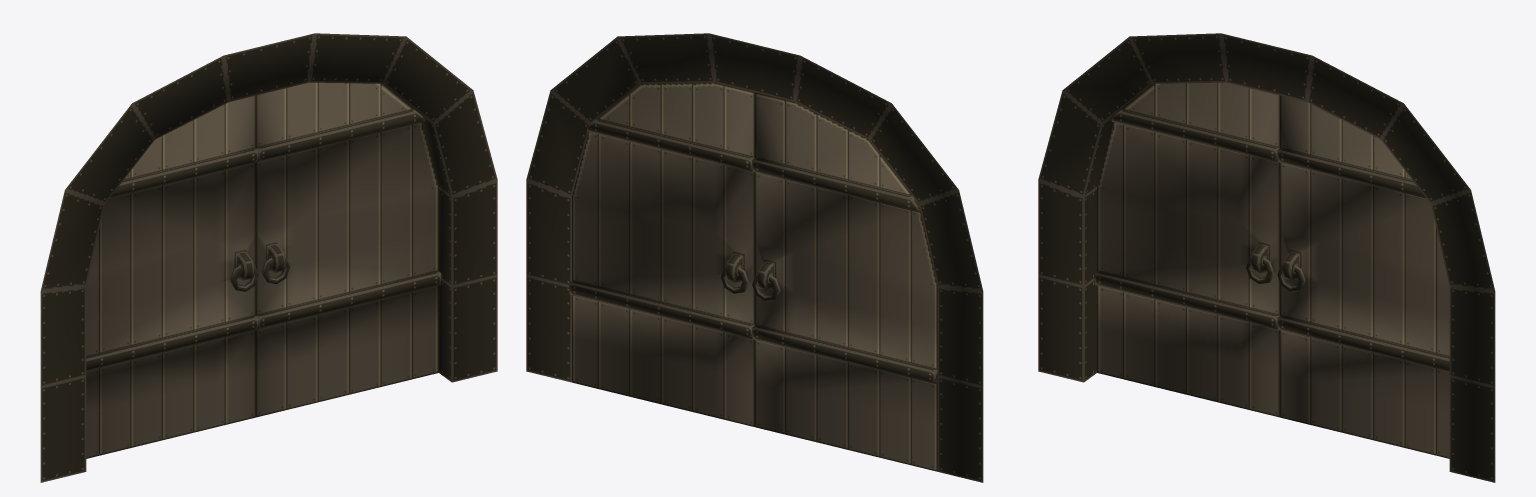
The model's file is BigDoorNormalWalls.fbx.
3 views of the same model, side by side, from view 1: azimuth 30°, elevation 25°; view 2: azimuth 150°, elevation 25°; view 3: azimuth 330°, elevation 25° (orthographic).
Parts seen in each view (by area): view 1: Door.003, Door.002, beam.001; view 2: Door.002, Door.003, beam.001; view 3: Door.002, Door.003, beam.001.
Part boxes in pixels (box(x1,y1,x2,y2)): Door.003: box(256, 82, 441, 417); Door.002: box(86, 95, 258, 458); beam.001: box(40, 33, 497, 482); Door.002: box(752, 92, 937, 471); Door.003: box(569, 82, 754, 426); beam.001: box(526, 33, 983, 482); Door.002: box(1094, 82, 1279, 417); Door.003: box(1277, 95, 1449, 458); beam.001: box(1038, 33, 1495, 482).
Size of the model in its own units: 1000 by 800 by 138.
